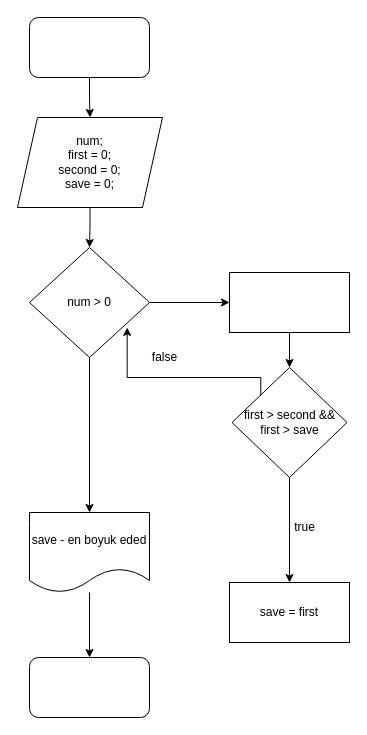
The diagram is 367 pixels wide and 735 high, and some of its shapes have lost their labels. The centre of each missing label's shape, as x and y in pixels:
"end" goes at point 89,687.
"first = num % 10 num /= 10; second = num % 10; num /= 10;" goes at point 289,302.
"start" goes at point 89,47.
